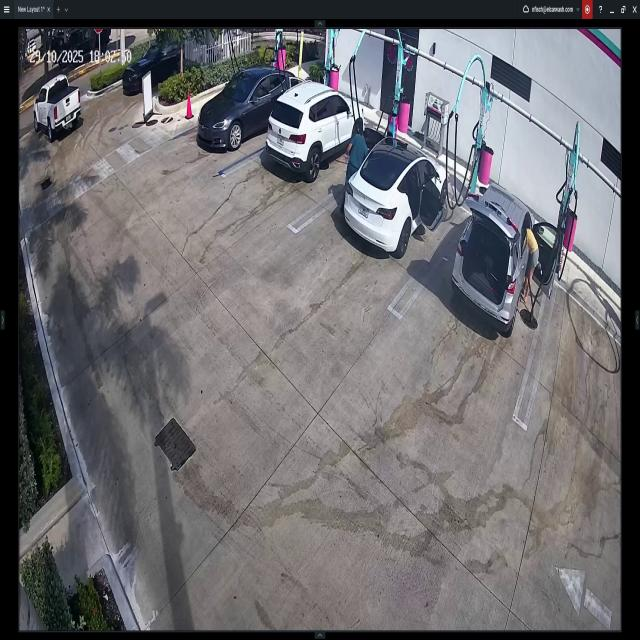Car: (452, 183, 560, 337), (343, 136, 448, 258), (268, 81, 364, 181), (197, 63, 302, 150), (120, 38, 180, 97), (30, 80, 81, 142)
